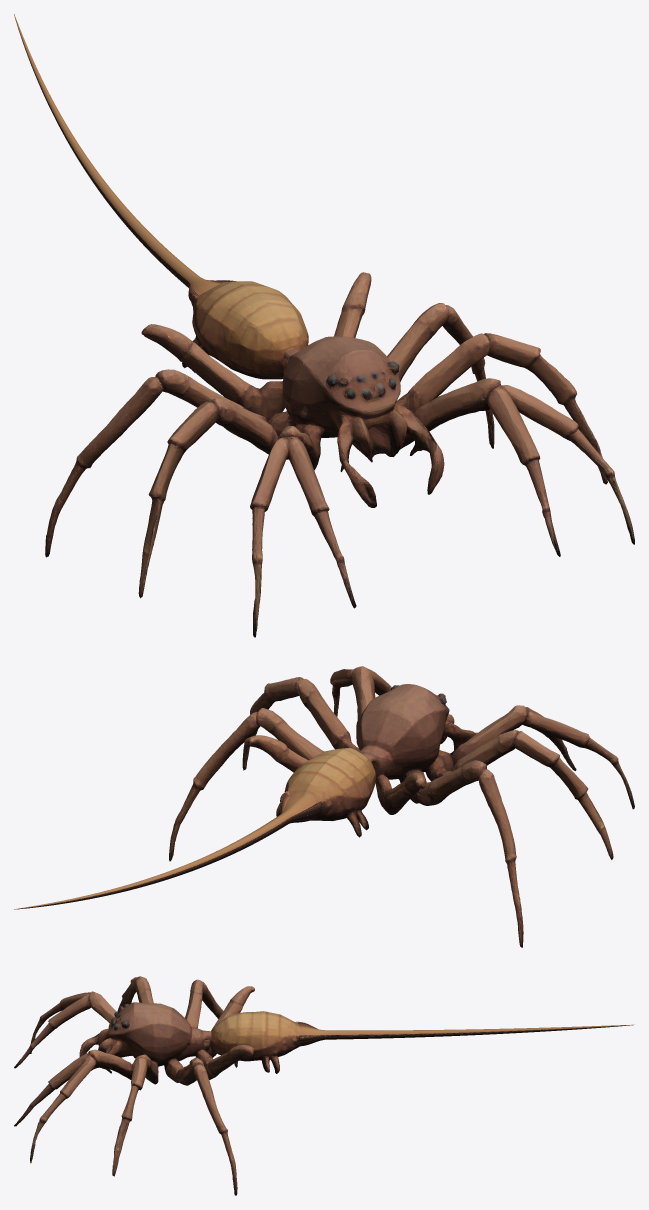
The picture shows the model from 3 angles, top to bottom: view 1: azimuth 30°, elevation 25°; view 2: azimuth 150°, elevation 25°; view 3: azimuth 270°, elevation 25°; orthographic projection. The views are drawn at different scales.
Visible parts, largest first — view 1: world; view 2: world; view 3: world.
Boxes of the visible parts, x1,y1,x2,y2 form: world: [14, 14, 634, 637]; world: [14, 666, 634, 947]; world: [14, 976, 634, 1195].
Bounding box in the file's own units: 0.6854 × 0.3096 × 1.33.
1 material, 1 textured.
